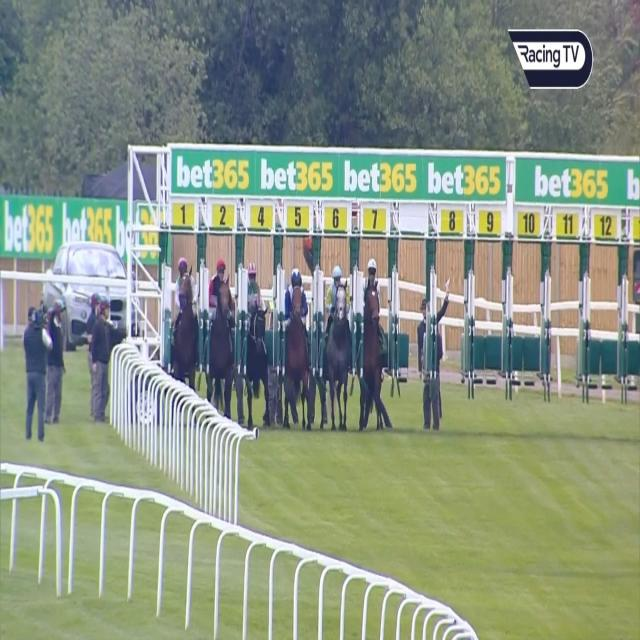horses-racing: (284, 266, 312, 430), (173, 258, 200, 415), (210, 258, 234, 425), (243, 259, 267, 424), (326, 259, 348, 435), (361, 257, 382, 436)
